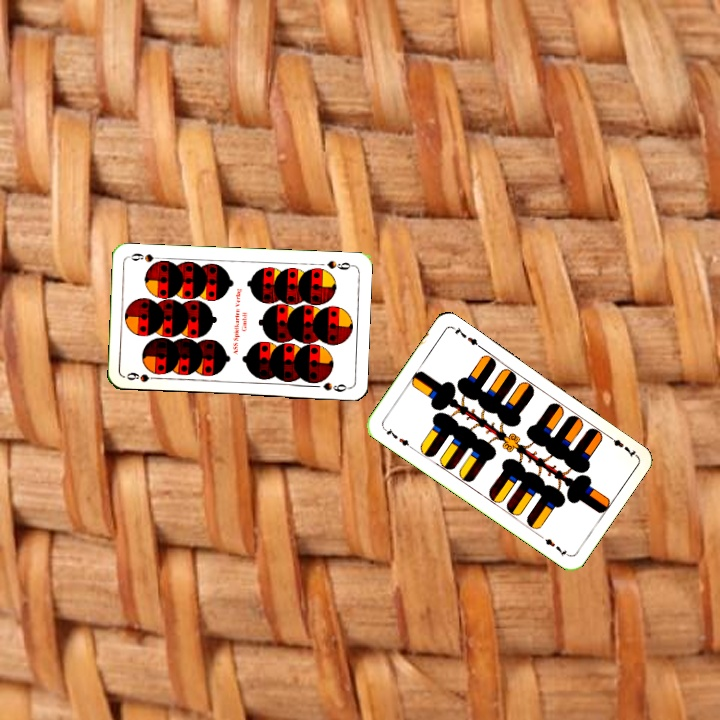E7: (603, 431, 639, 460), (379, 423, 415, 451)
S9: (122, 369, 163, 384), (323, 256, 356, 273)
